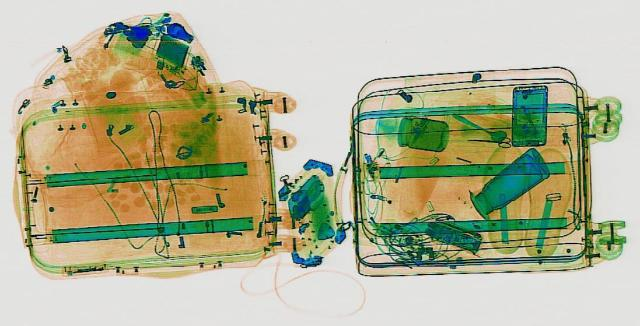Scissors: (468, 134, 512, 146)
